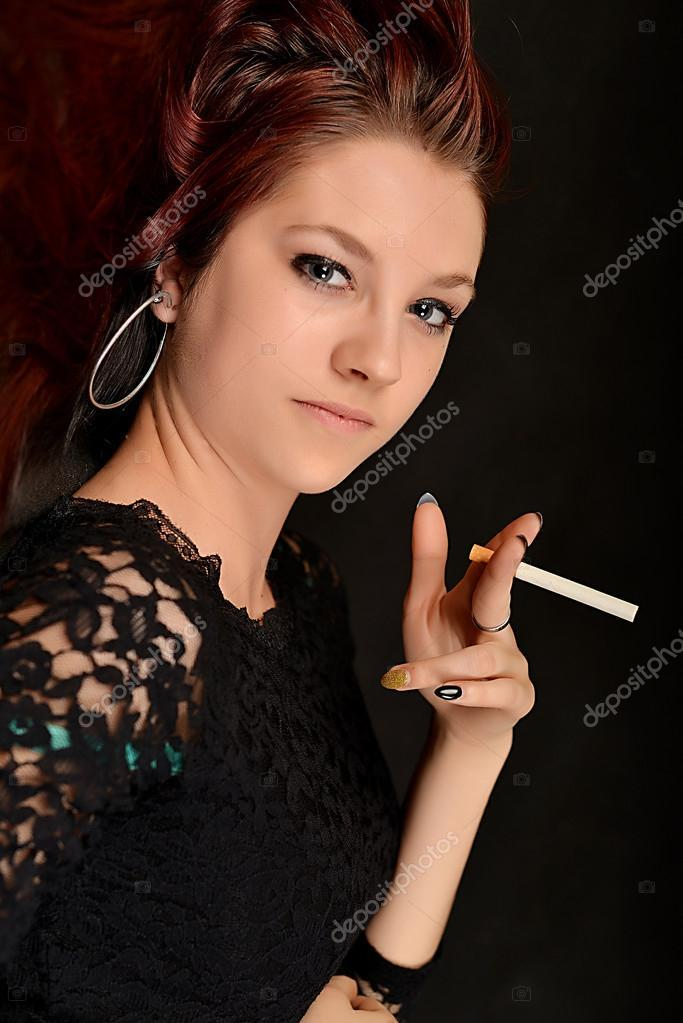cigarette: (515, 561, 637, 621)
